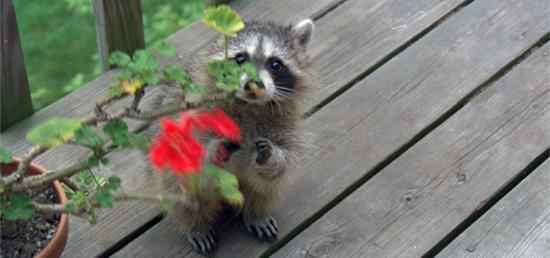raccoon: (151, 15, 315, 258)
